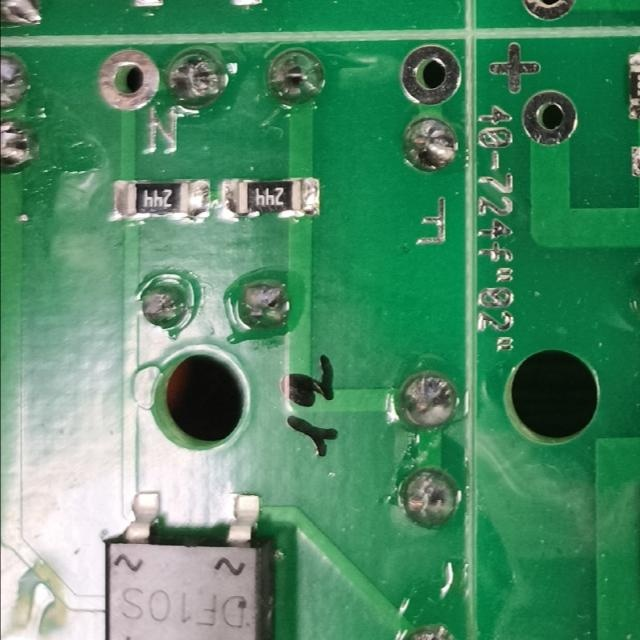chip-resistor: (109, 176, 211, 223), (220, 174, 323, 218)
ic: (98, 485, 282, 640)
